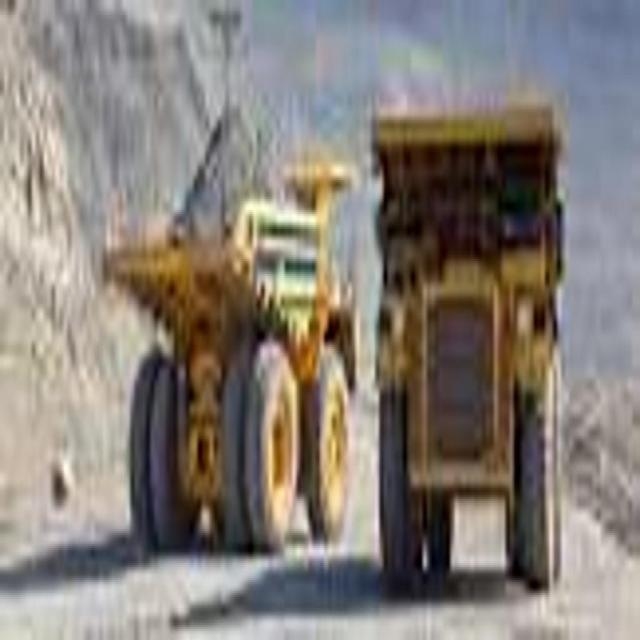dump_truck: (98, 127, 367, 578), (370, 81, 570, 603)
